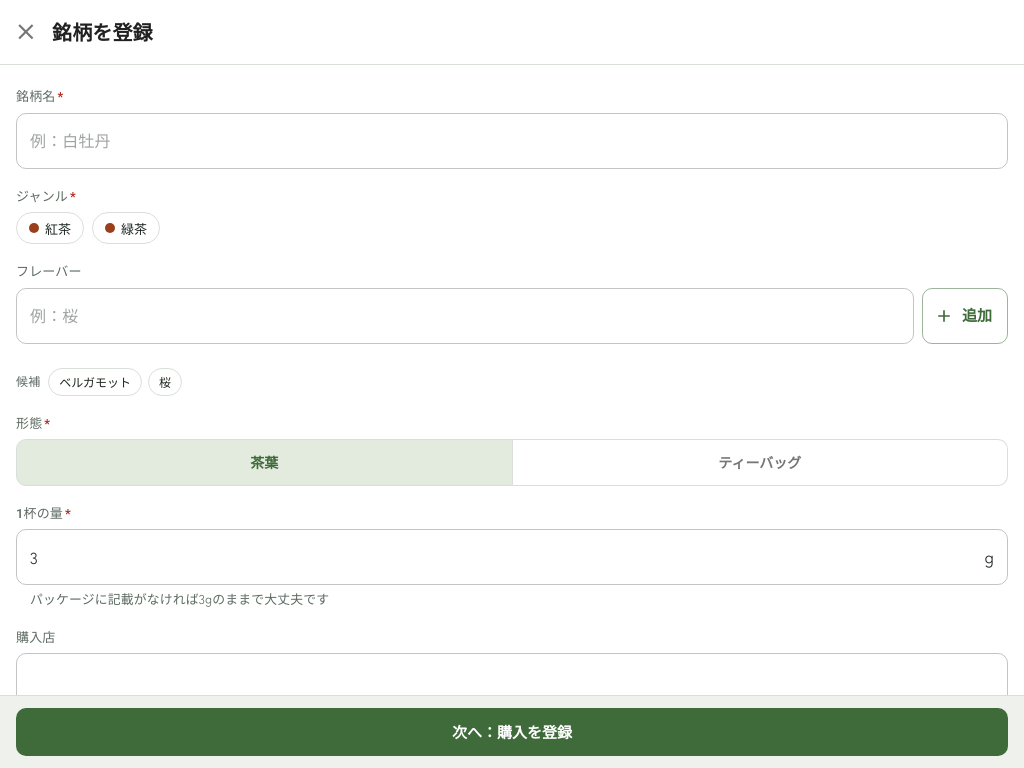
Scenario: SC-04 銘柄を登録 › フレーバーの重複は追加しない
In the field named "フレーバー": (465, 316) [16,288,914,344], type "梨"
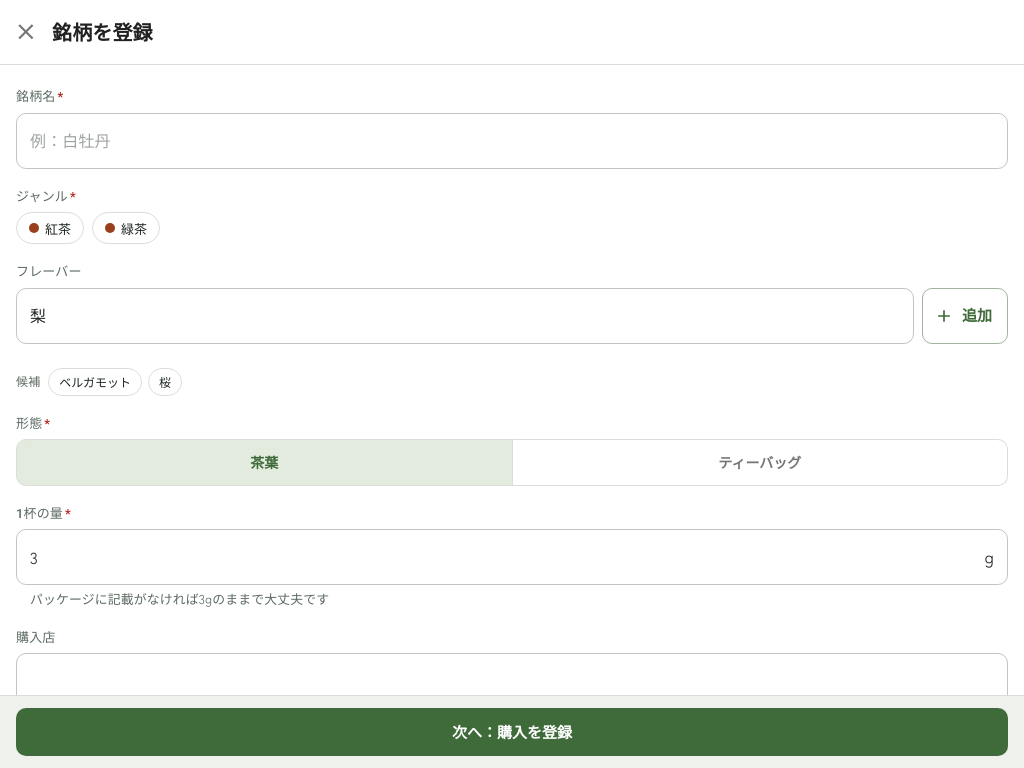
Click the button "追加": (965, 316) [922,288,1008,344]
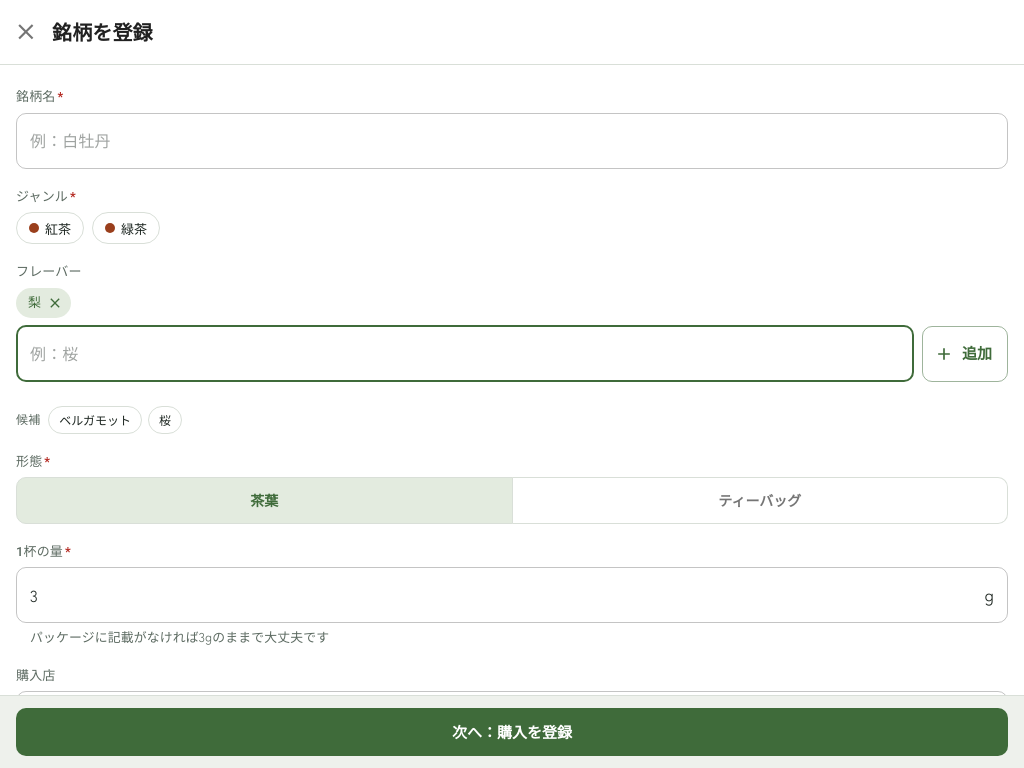
In the field named "フレーバー": (465, 354) [16,326,914,382], type "梨"
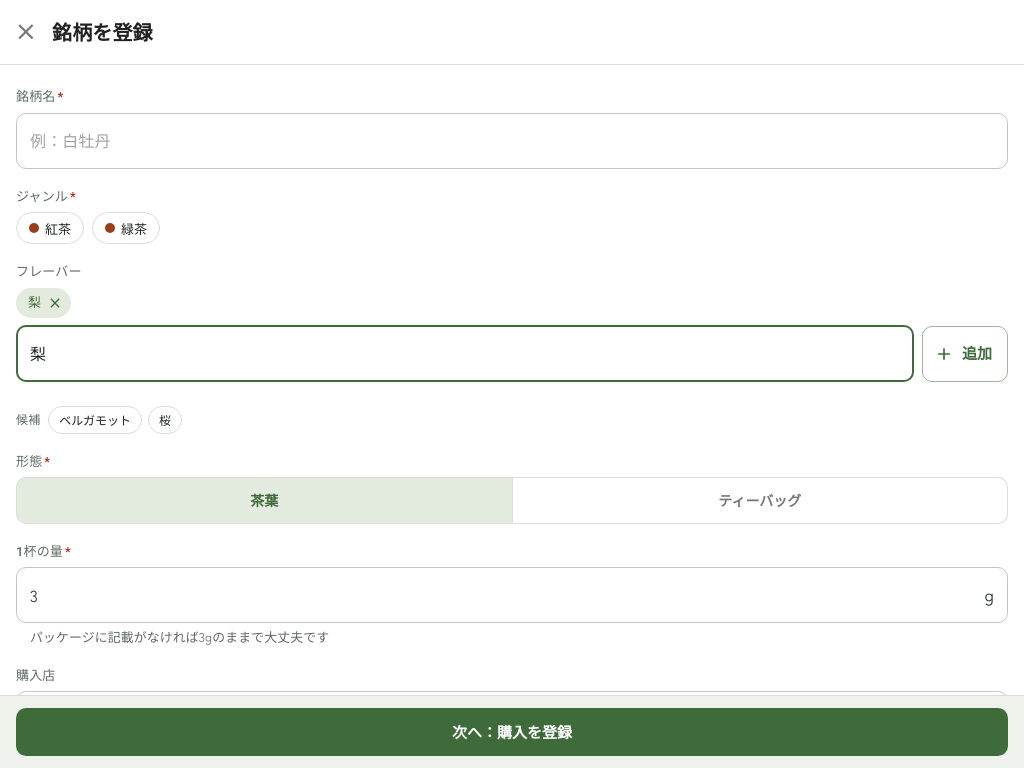
Click the button "追加": (965, 354) [922,326,1008,382]
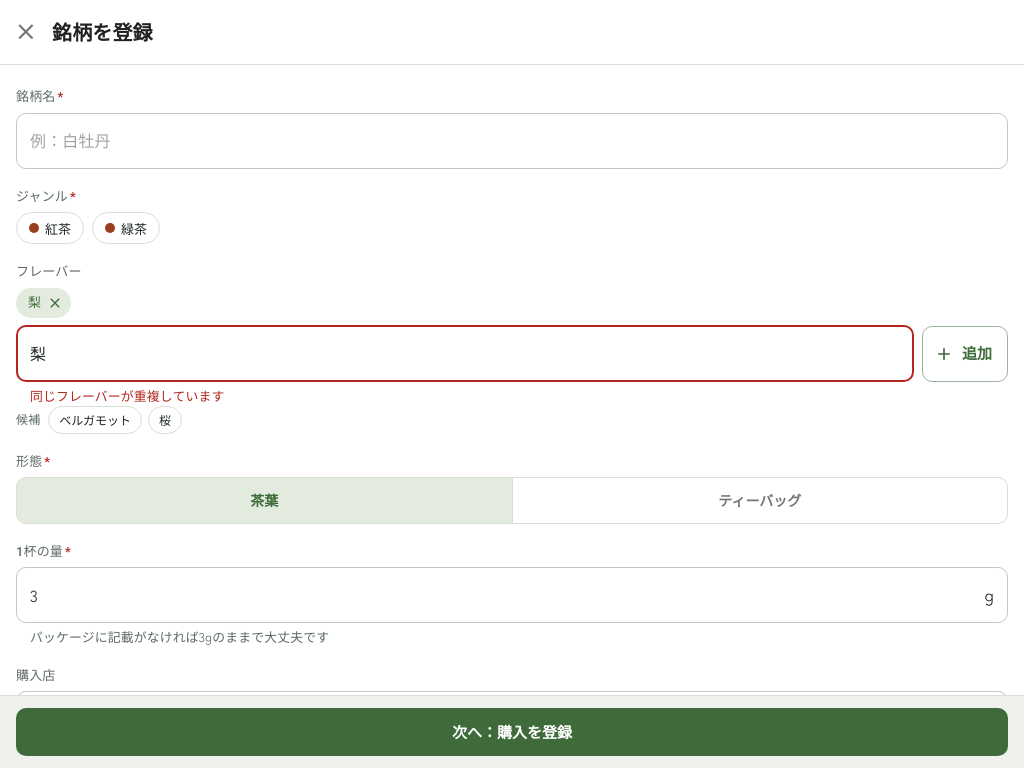
expect the number of buttons named "梨を外す" is 1: met, box [43,290,67,314]
expect the text "同じフレーバーが重複しています" is shown: met, box [30,386,224,404]
